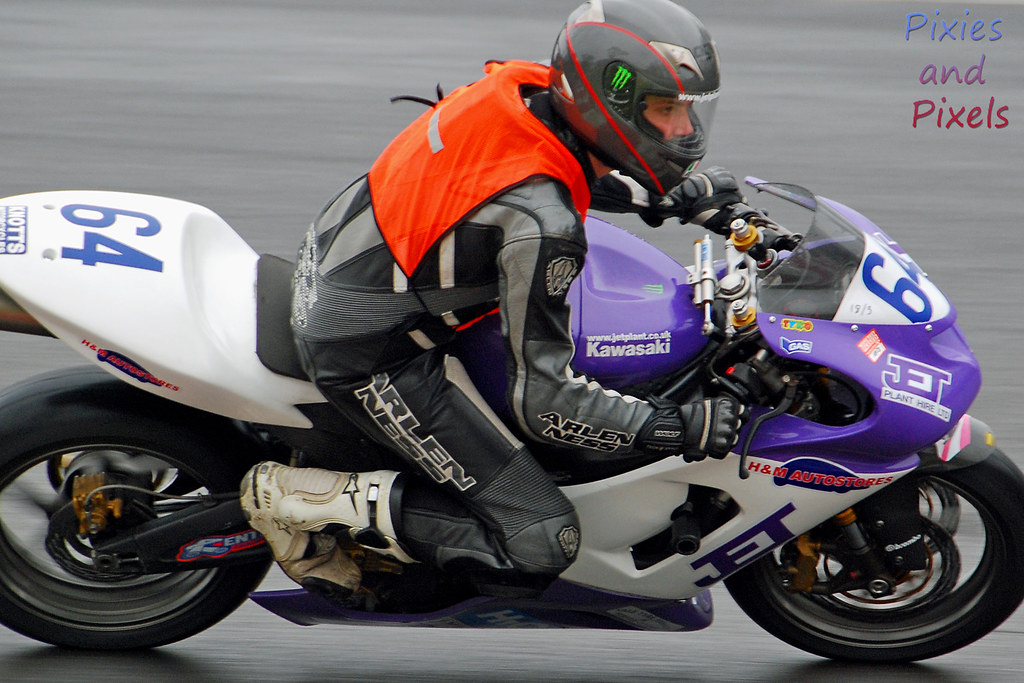helmet: (554, 8, 717, 170)
